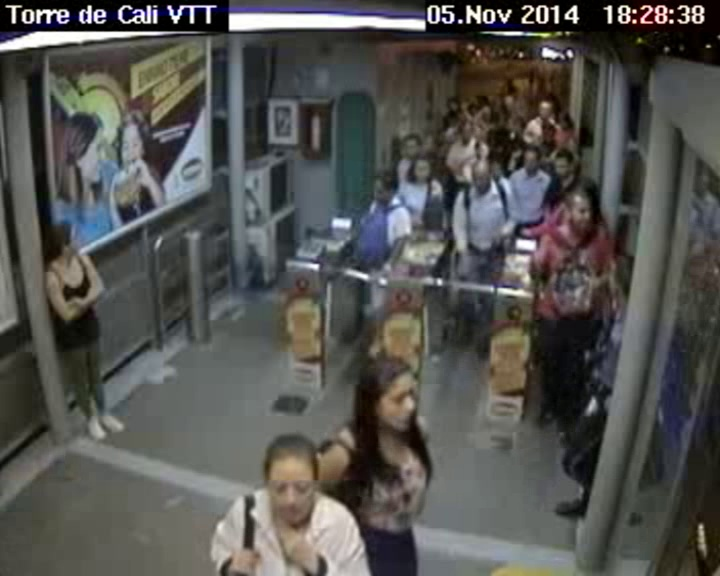person: (341, 343, 425, 443), (248, 425, 321, 524), (45, 218, 82, 261), (607, 256, 636, 306), (469, 161, 501, 198), (564, 190, 593, 230), (367, 176, 396, 208), (553, 151, 575, 183), (524, 146, 547, 173), (400, 130, 422, 153), (411, 159, 432, 179), (538, 100, 557, 122), (458, 121, 475, 144), (558, 110, 575, 127), (543, 122, 554, 142)
